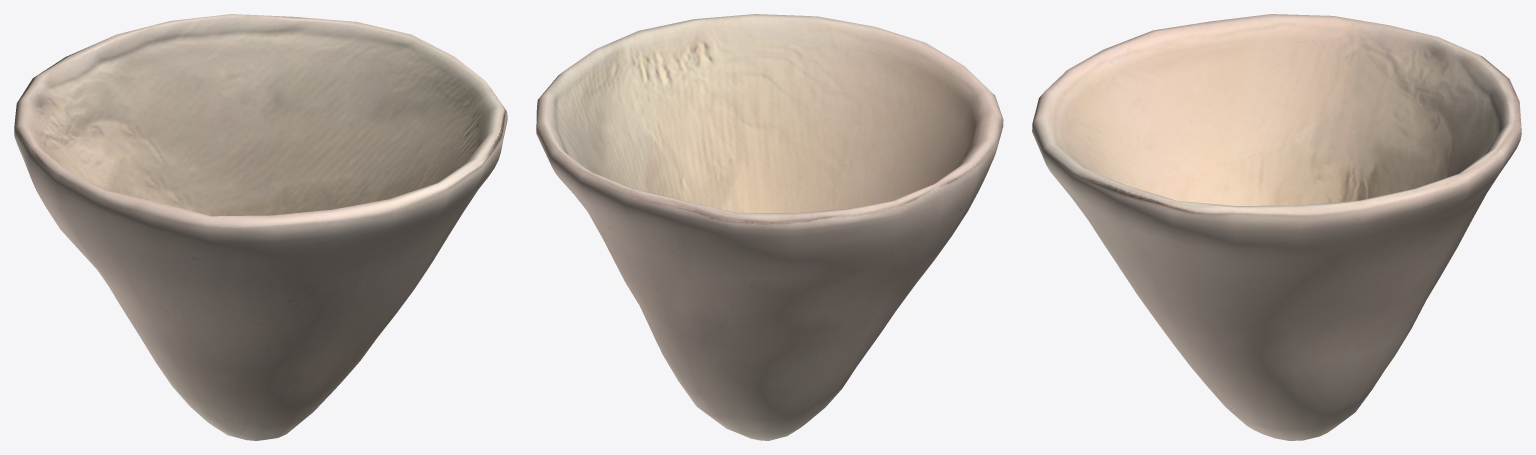
3 views of the same model, side by side, from view 1: azimuth 30°, elevation 25°; view 2: azimuth 150°, elevation 25°; view 3: azimuth 270°, elevation 25° (orthographic). The views are drawn at different scales.
Parts seen in each view (by area): view 1: 101; view 2: 101; view 3: 101.
Boxes of the visible parts, x1,y1,x2,y2 form: 101: (14,14,507,440); 101: (536,14,1003,440); 101: (1032,14,1521,440).
Size of the model in its own units: 92.11 by 93.38 by 69.22.
1 material, 1 textured.
